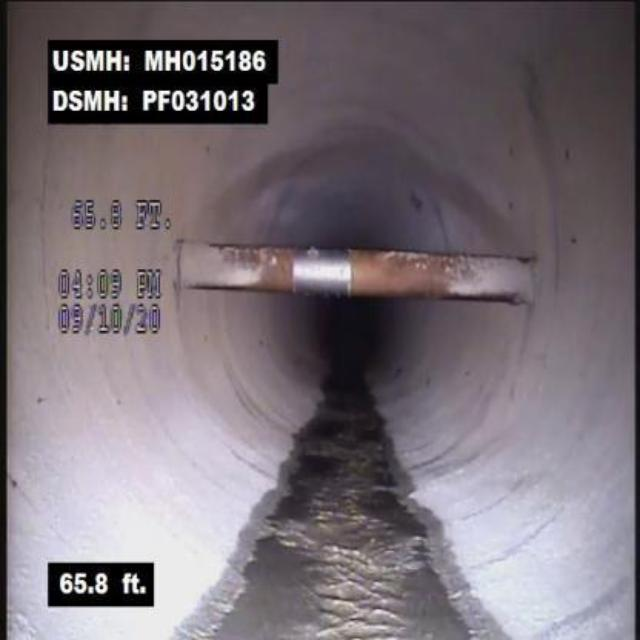Utility intrusion: (174, 235, 546, 311)
